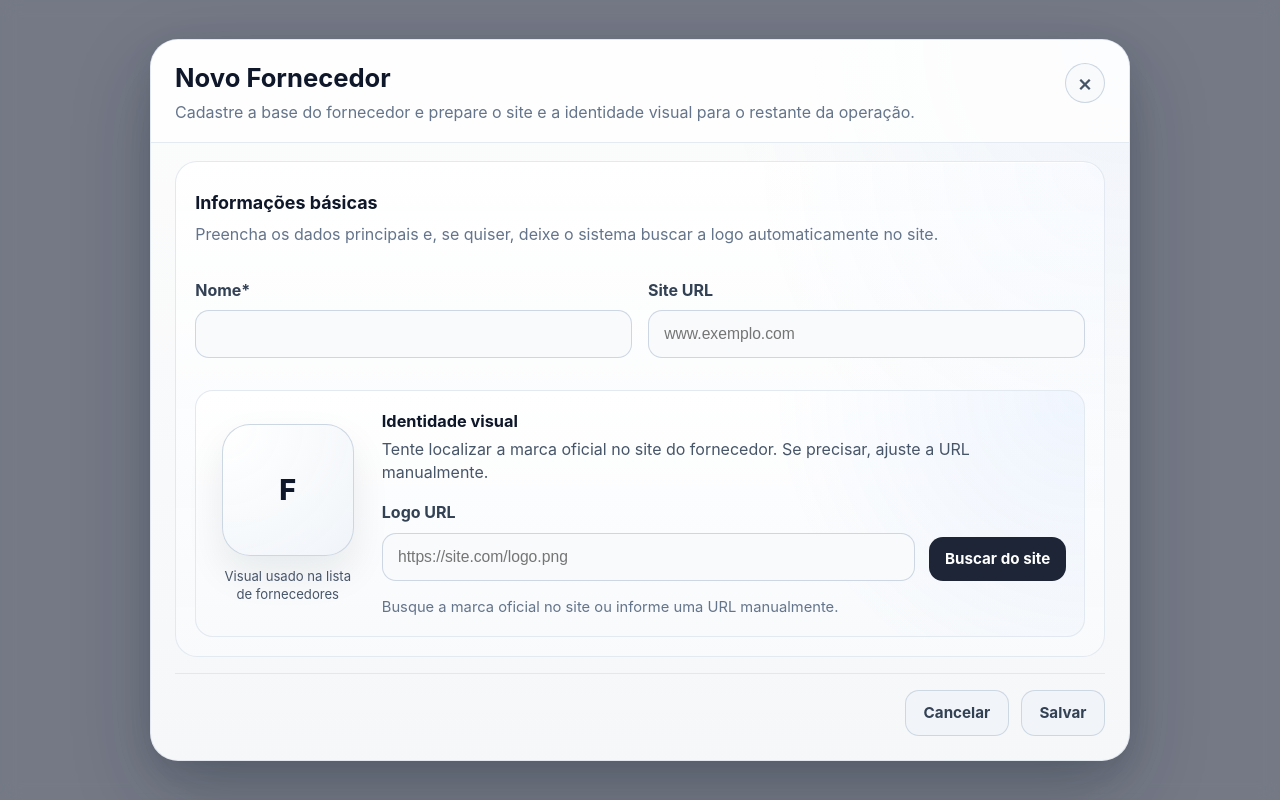
Test: NewFornecedorModal › resolves logo from the site and fills the dedicated field
In the field labelled "Nome*": {"x": 414, "y": 334} [195, 310, 632, 358], type "Fornecedor Logo"
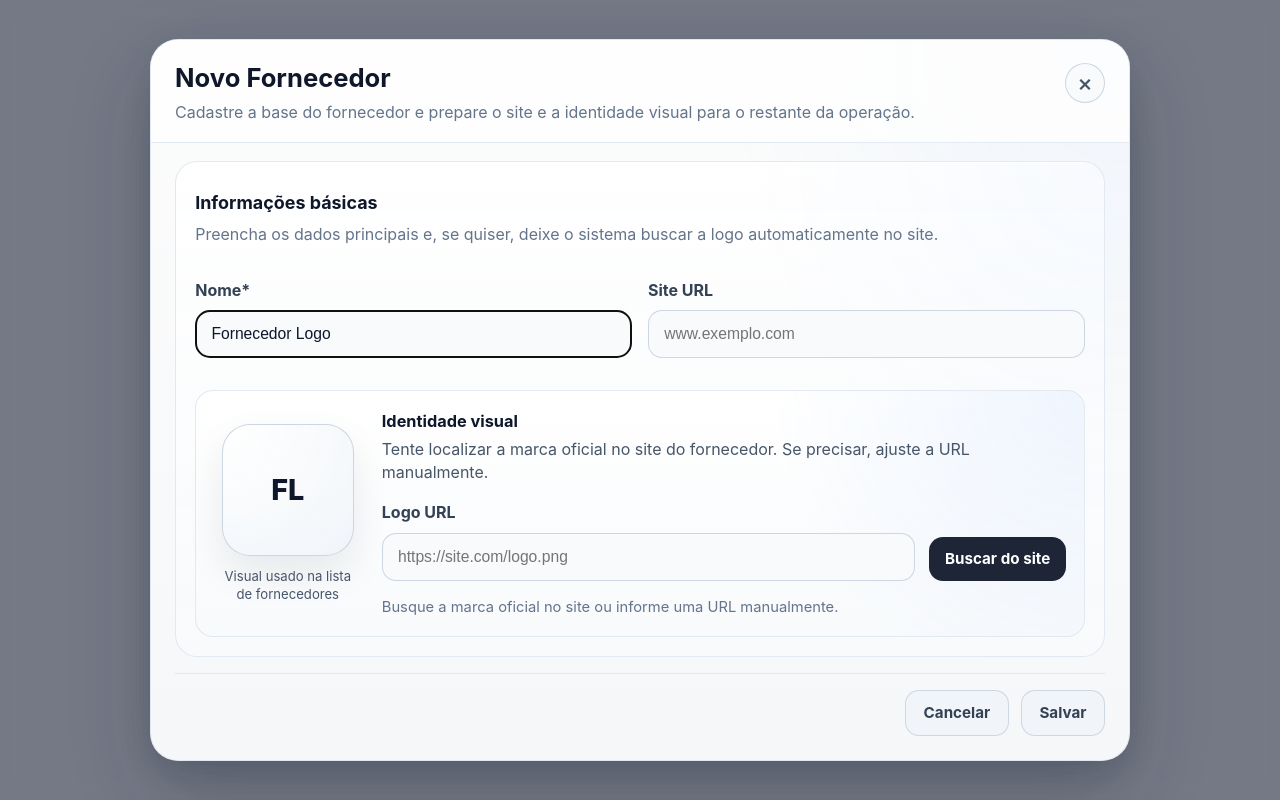
In the field labelled "Site URL": {"x": 866, "y": 334} [648, 310, 1085, 358], type "exemplo.com"
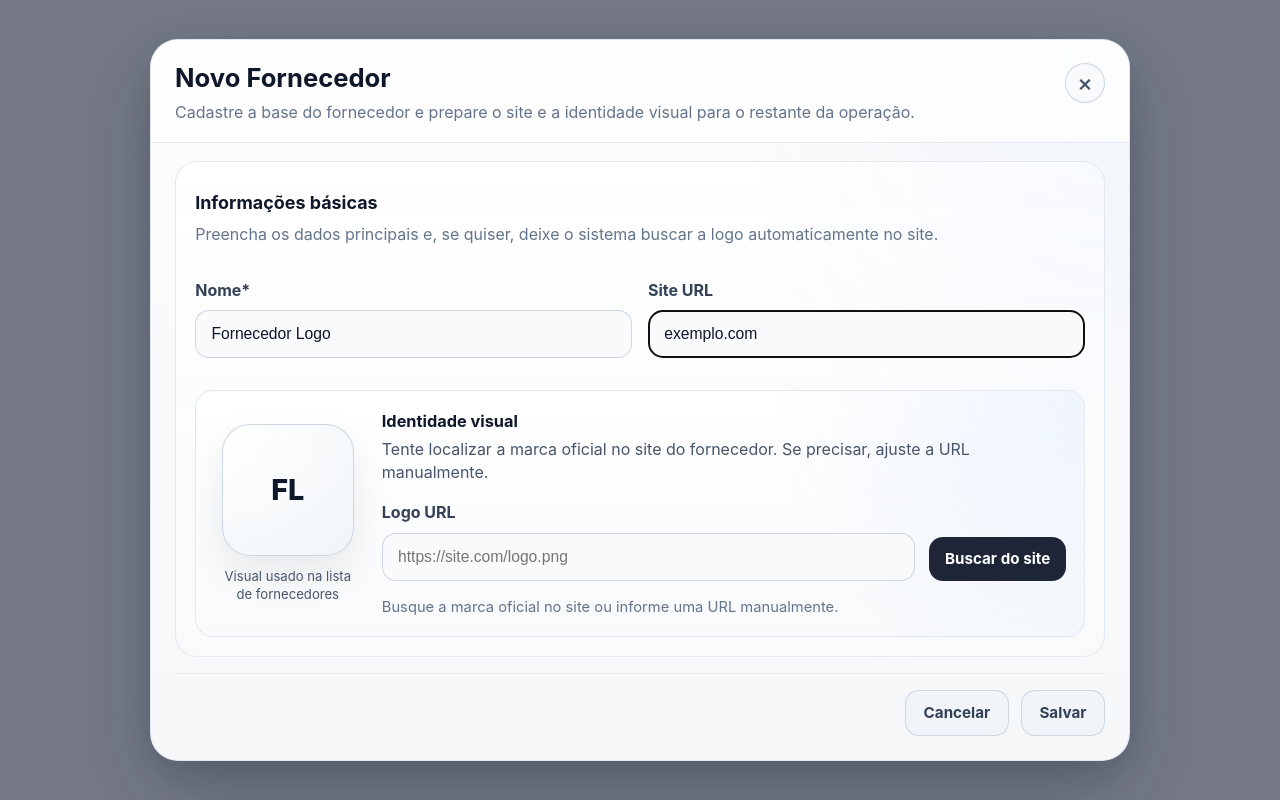
Click the button "Buscar do site": {"x": 998, "y": 559} [929, 537, 1066, 581]
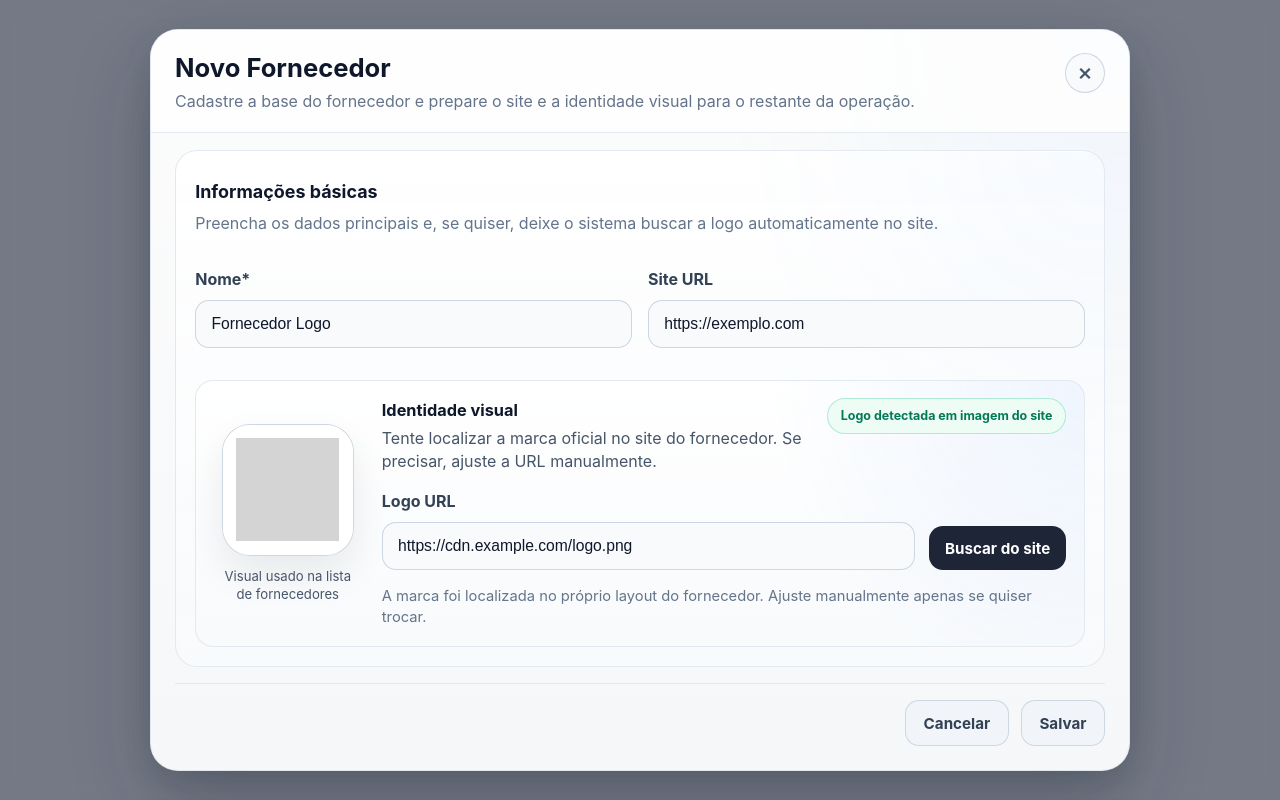
Now the field labelled "Logo URL" holds "https://cdn.example.com/logo.png", box [382, 522, 915, 570]
